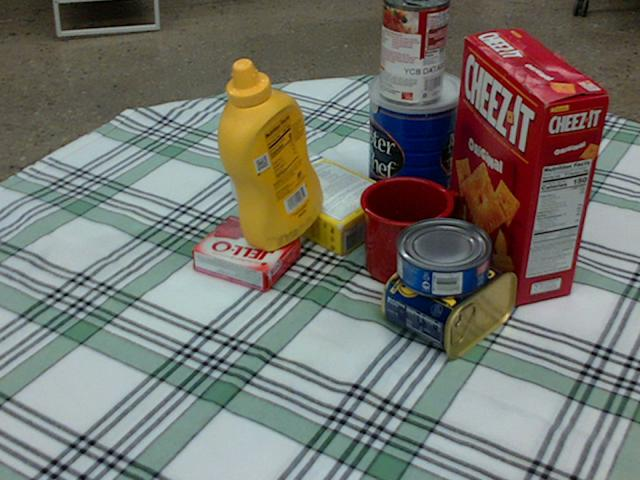cracker_box: (446, 29, 611, 302)
gelatin_box: (192, 217, 302, 293)
master_chef_can: (366, 67, 465, 222)
mug: (360, 177, 462, 288)
mustard_bottle: (217, 59, 322, 250)
potted_meat_can: (384, 239, 520, 355)
sugar_box: (227, 139, 396, 255)
tomato_soup_can: (380, 0, 450, 104)
tuna_fish_can: (396, 219, 491, 297)
